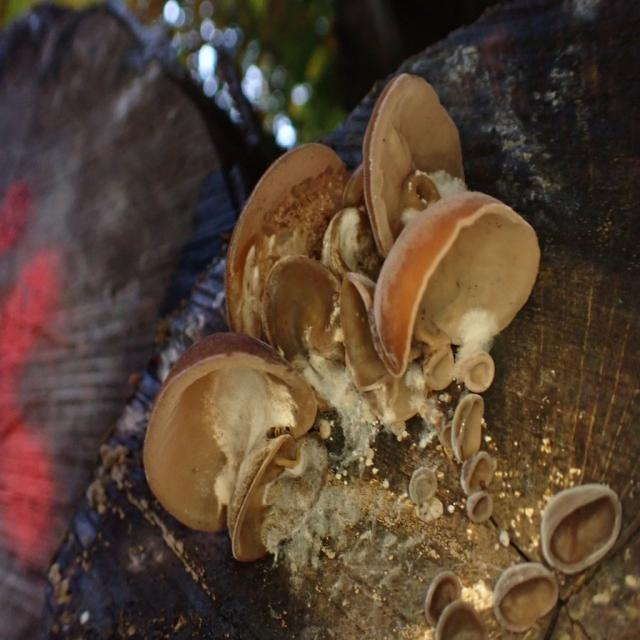Fase Muda: (539, 482, 624, 576), (491, 562, 560, 634), (418, 569, 462, 631), (448, 394, 486, 465), (429, 597, 490, 640), (424, 343, 456, 392)
Matang: (142, 323, 320, 538), (372, 183, 544, 378), (223, 139, 353, 350), (360, 69, 467, 258), (338, 269, 426, 421), (222, 431, 316, 568), (258, 253, 352, 378), (321, 204, 389, 293)
primordia: (459, 451, 495, 495), (461, 349, 495, 393), (408, 466, 438, 506), (466, 488, 493, 525)
